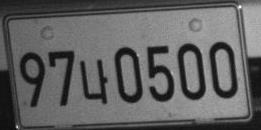0: (176, 42, 207, 100), (209, 40, 239, 99), (113, 46, 144, 103)
5: (146, 44, 175, 102)
7: (47, 49, 75, 106)
9: (19, 51, 46, 107)
나: (80, 58, 108, 103)
